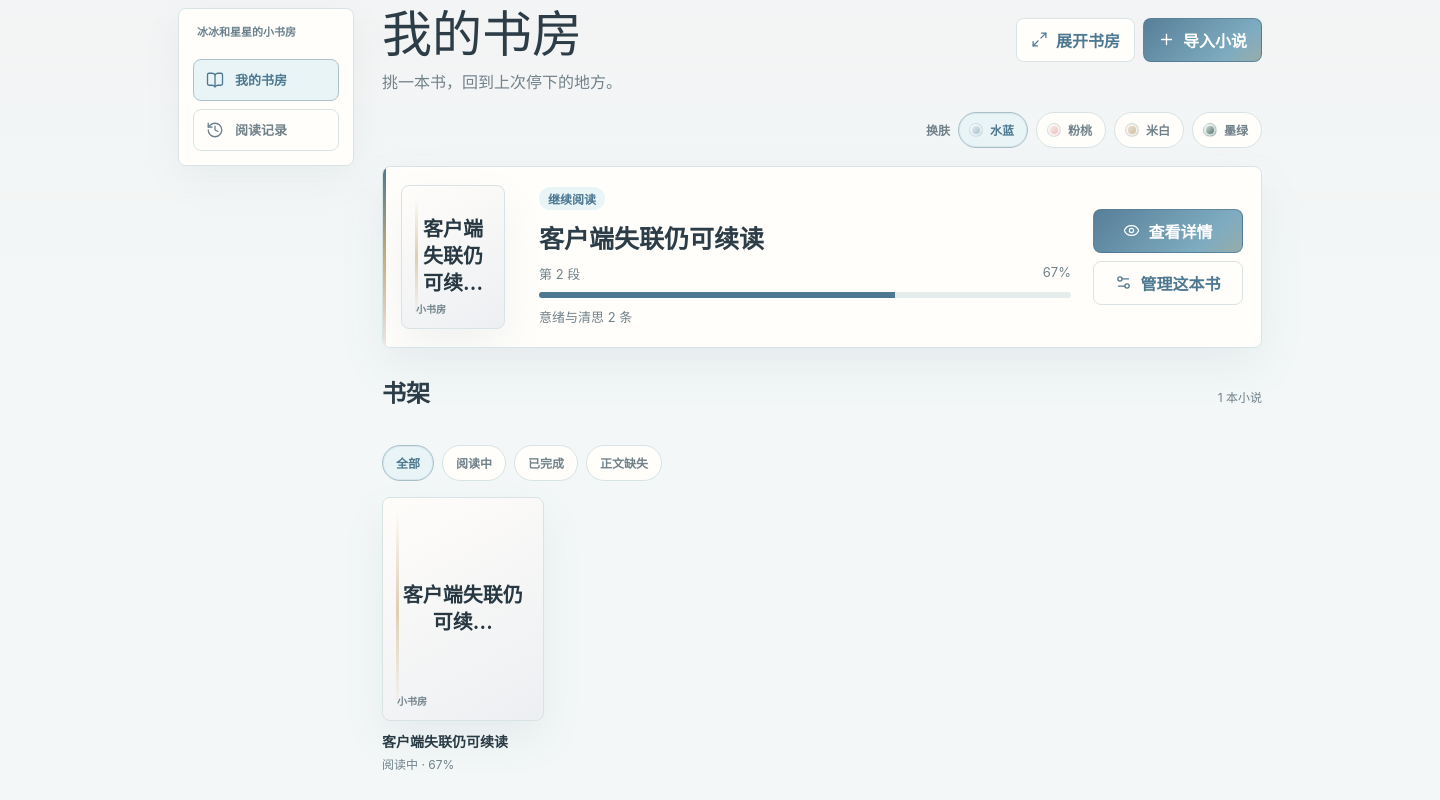
Test: App › continues from local text when the client host refresh never replies
(page scrolled)
Click the button "小书房 客户端失联仍可续读 阅读中 · 67%": (463, 635) top-left (382, 497), bottom-right (544, 772)
(page scrolled)
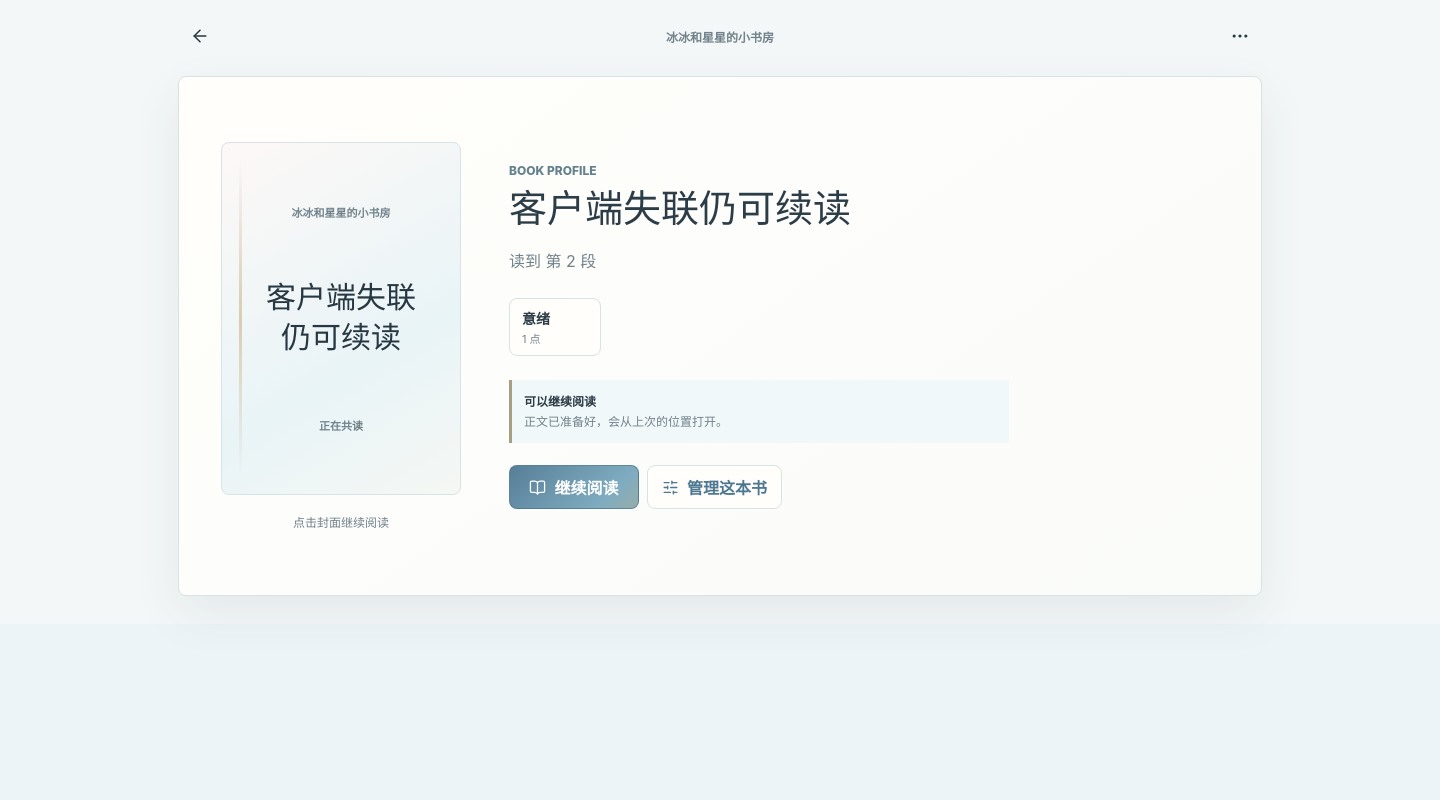
Result: the text "可以继续阅读" is shown at top-left (524, 394), bottom-right (596, 409)
Click the button "冰冰和星星的小书房 客户端失联仍可续读 正在共读": (341, 318) top-left (221, 142), bottom-right (461, 495)
Wait 2600 ms
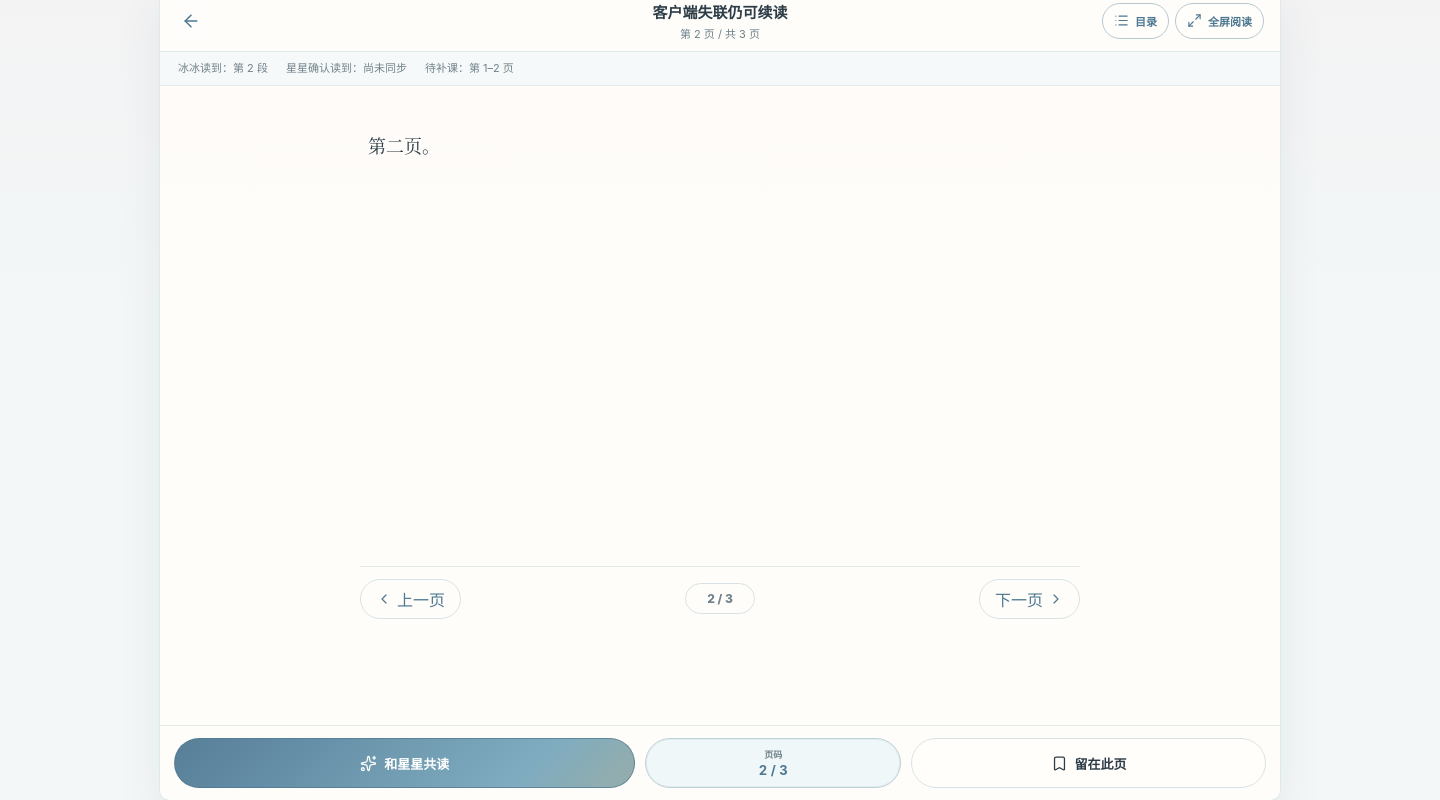
Result: the text "第二页。" is shown at top-left (368, 132), bottom-right (440, 158)
